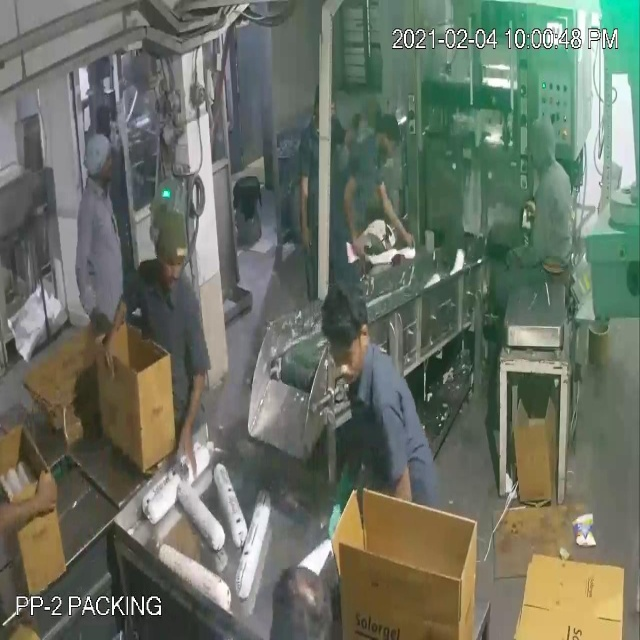Guantes: (316, 443, 373, 551)
Sin_guantes: (170, 350, 221, 486), (1, 463, 77, 538), (66, 194, 102, 320), (370, 170, 419, 256), (294, 152, 320, 261), (103, 280, 128, 387), (345, 156, 366, 265)
